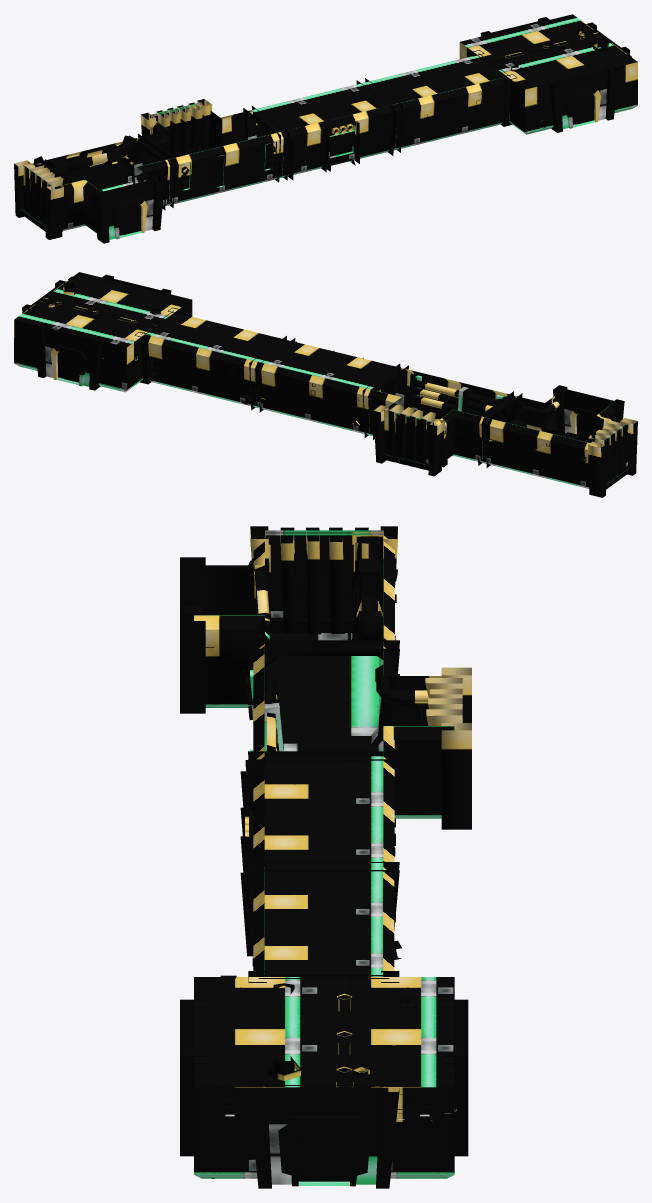
Rendered from Combined_Mesh_root_scene__7_93922163__zombies2_diffuse_12_078cf75e_c1f257.obj.
3 renders of one model, top to bottom at view 1: azimuth 30°, elevation 25°; view 2: azimuth 150°, elevation 25°; view 3: azimuth 270°, elevation 25°, orthographic. The views are drawn at different scales.
Bounding box in the file's own units: 102 × 9.84 × 22.39.
85 materials, 85 textured.
